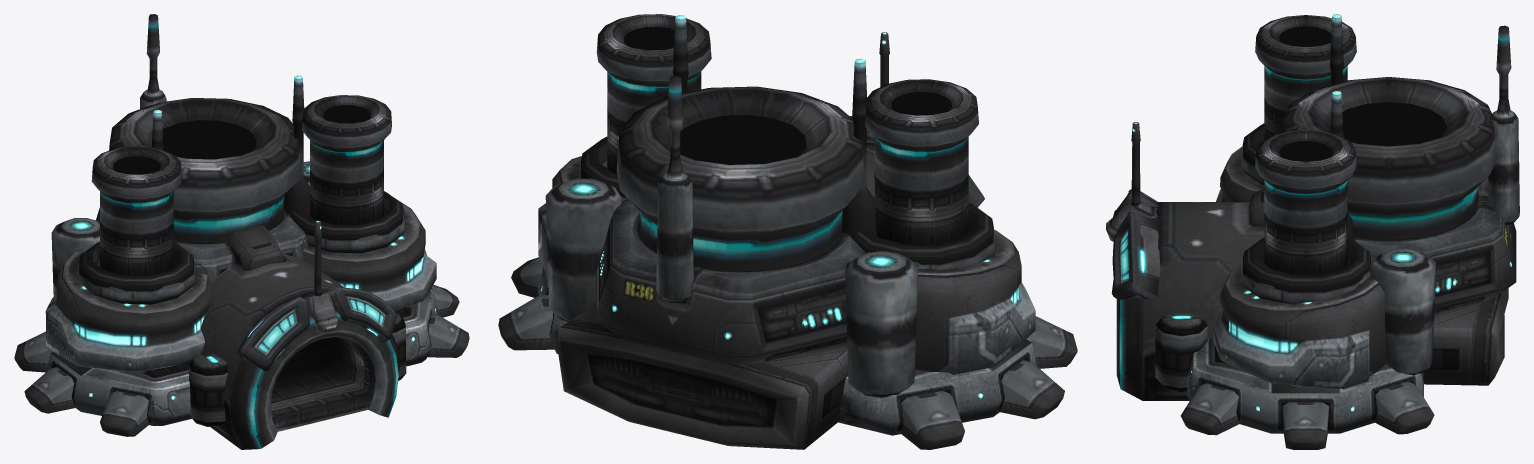
The model's file is FilteringPlant.glb.
3 views of the same model, side by side, from view 1: azimuth 30°, elevation 25°; view 2: azimuth 150°, elevation 25°; view 3: azimuth 270°, elevation 25° (orthographic). The views are drawn at different scales.
Visible parts, largest first — view 1: Mesh.001, Mesh; view 2: Mesh.001, Mesh; view 3: Mesh.001, Mesh.
Boxes of the visible parts, x1,y1,x2,y2 form: Mesh.001: (14, 14, 469, 449); Mesh: (113, 105, 370, 174); Mesh.001: (498, 14, 1077, 449); Mesh: (624, 26, 951, 164); Mesh.001: (1106, 14, 1519, 449); Mesh: (1279, 26, 1446, 161).
Size of the model in its own units: 3.97 by 2.68 by 3.01.
Materials: 5 (4 with a texture image).
